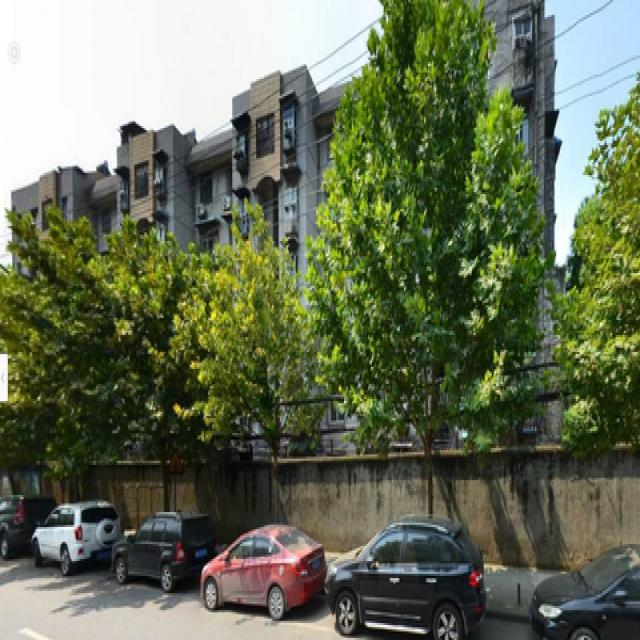meta: (312, 6, 551, 523)
